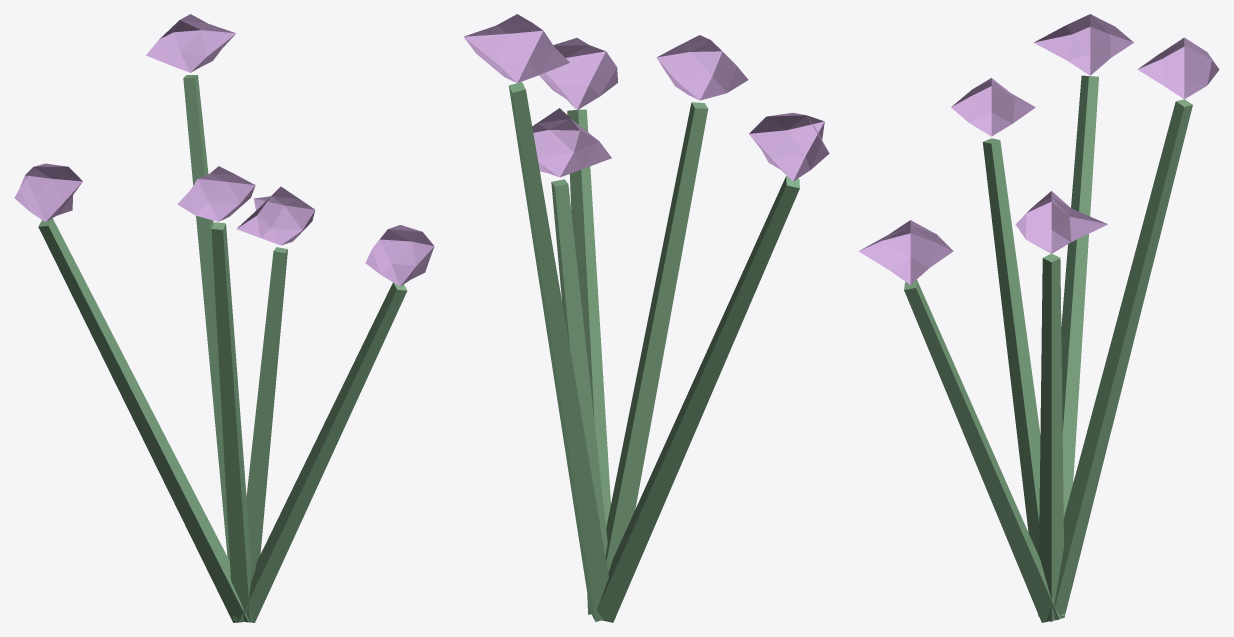
The model's file is flower_v39.glb.
3 views of the same model, side by side, from view 1: azimuth 30°, elevation 25°; view 2: azimuth 150°, elevation 25°; view 3: azimuth 270°, elevation 25° (orthographic). The views are drawn at different scales.
Parts seen in each view (by area): view 1: lod0; view 2: lod0; view 3: lod0.
Boxes of the visible parts, x1,y1,x2,y2 form: lod0: (14,14,434,622); lod0: (463,14,829,622); lod0: (858,14,1219,622).
Size of what is drawn, in the model's own units: 0.5485 by 0.8752 by 0.4877.
